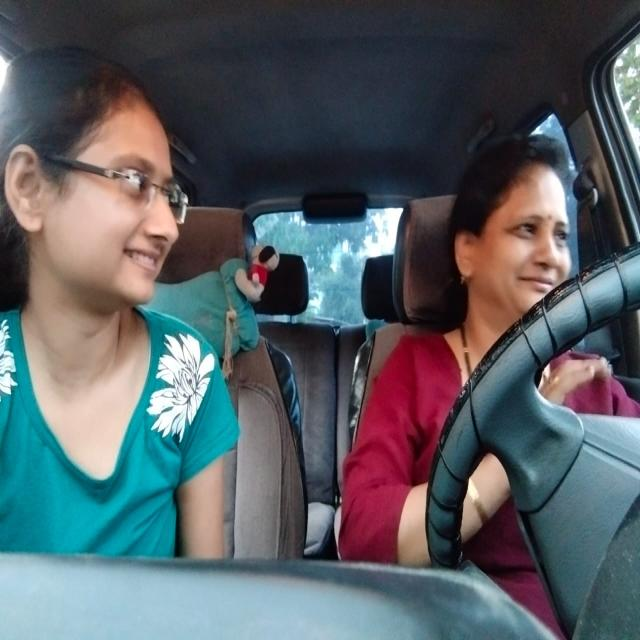LeftRight: (442, 130, 573, 317)
person: (0, 36, 190, 318)
